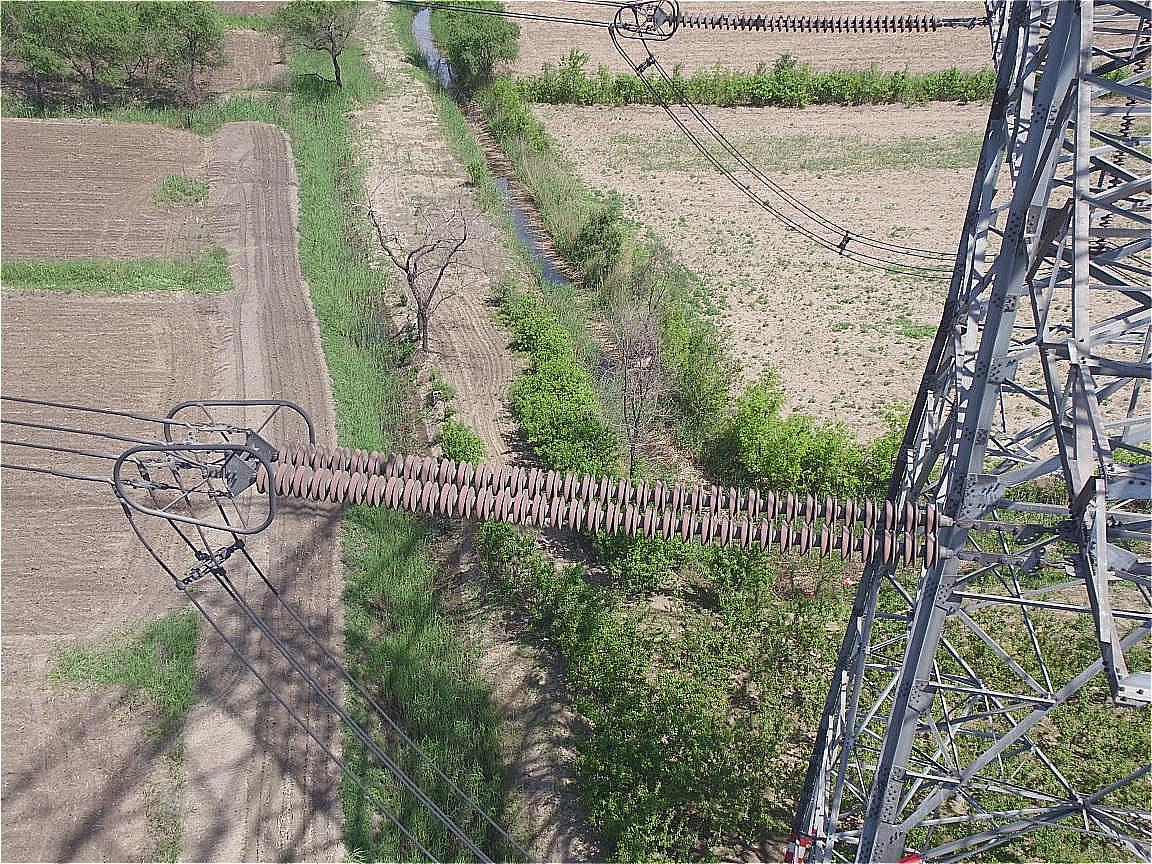insultor1: (661, 2, 961, 44)
insultor2: (191, 439, 975, 571)
